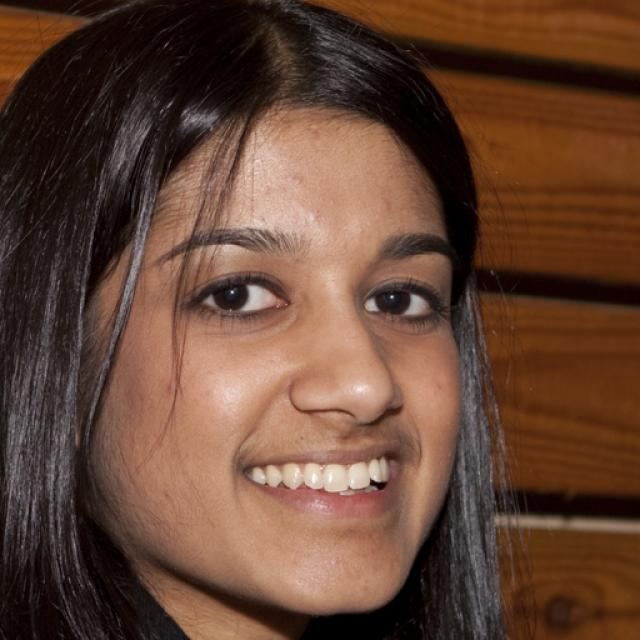Acne: (347, 222, 370, 241), (286, 173, 307, 189), (304, 210, 322, 225)
